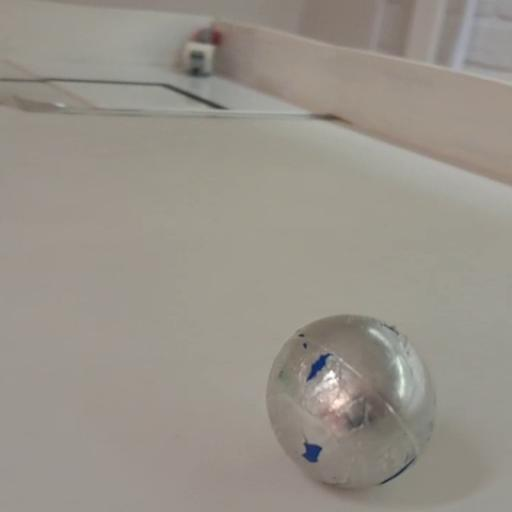alive: (263, 312, 435, 490)
